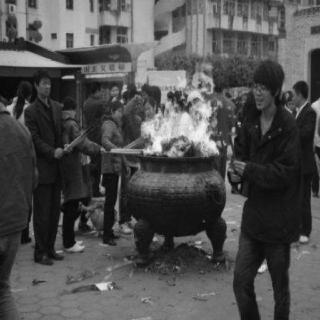other: (31, 14, 41, 46)
